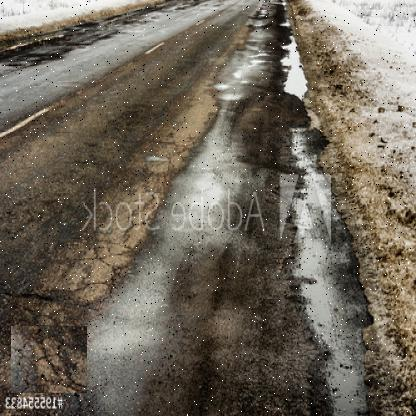crack: (39, 245, 131, 308), (10, 326, 87, 394)
